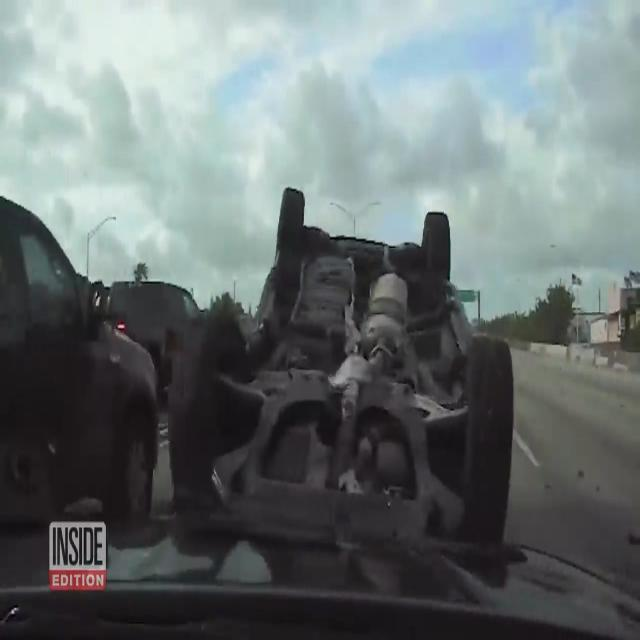accident: (157, 170, 523, 554)
